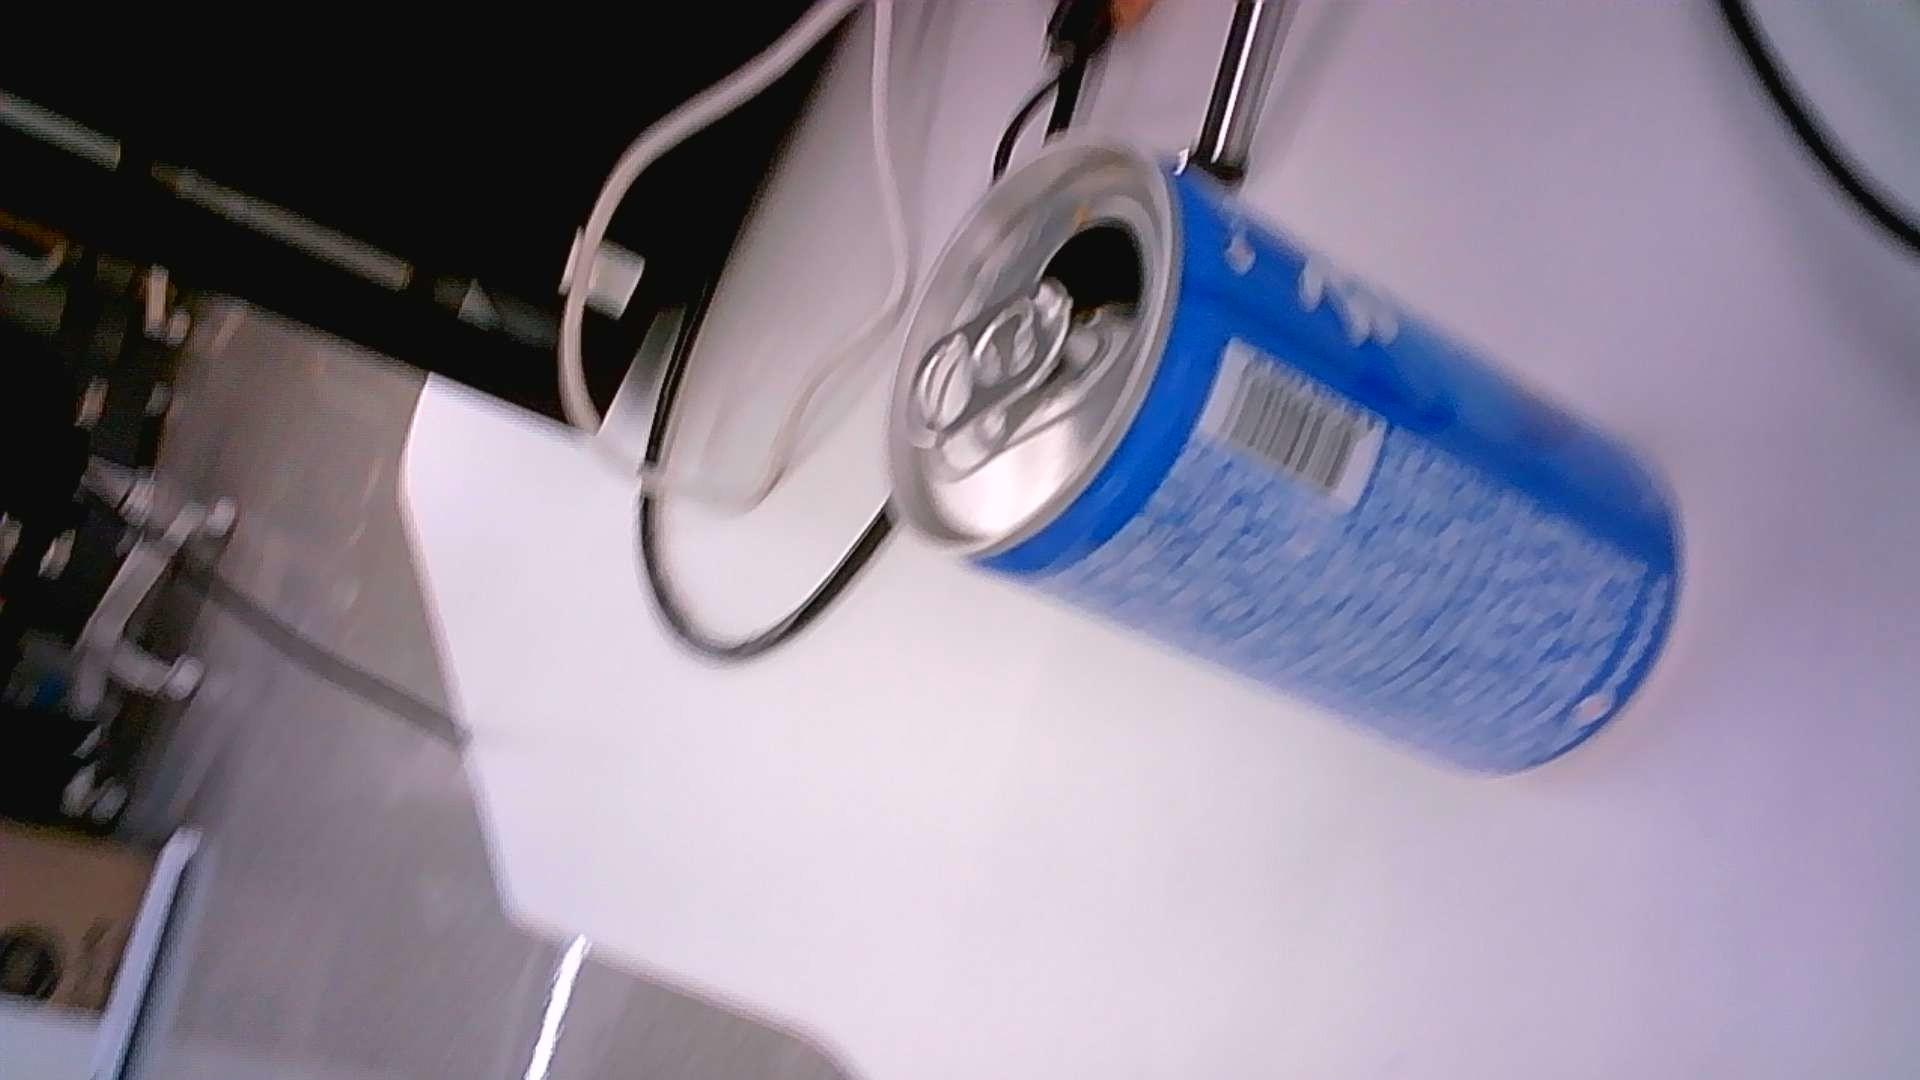letsbe: (884, 133, 1685, 778)
